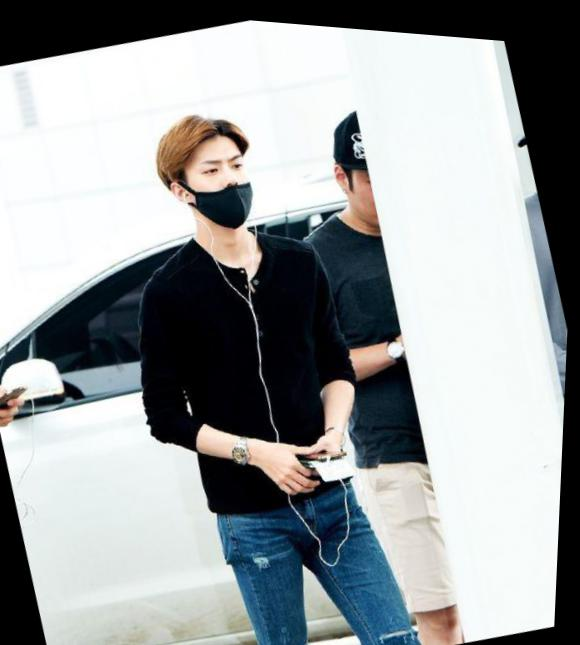WRONG: (171, 136, 269, 236)
